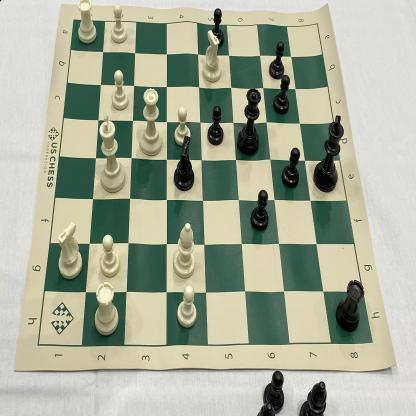black-king: (312, 110, 346, 196)
black-knight: (170, 136, 200, 195)
black-pawn: (247, 186, 271, 235), (271, 73, 294, 119), (280, 145, 302, 192), (204, 103, 227, 147), (205, 6, 227, 49), (265, 38, 287, 81)
black-queen: (235, 83, 266, 158)
black-rook: (332, 276, 366, 335)
white-bishop: (169, 218, 198, 281)
white-king: (95, 112, 128, 194)
white-knight: (54, 213, 85, 281)
white-pawn: (174, 282, 200, 331), (95, 232, 121, 277), (107, 68, 131, 112), (107, 2, 131, 46), (173, 105, 192, 147)
white-queen: (137, 84, 165, 157)
white-rook: (89, 279, 123, 338), (73, 0, 99, 47)
